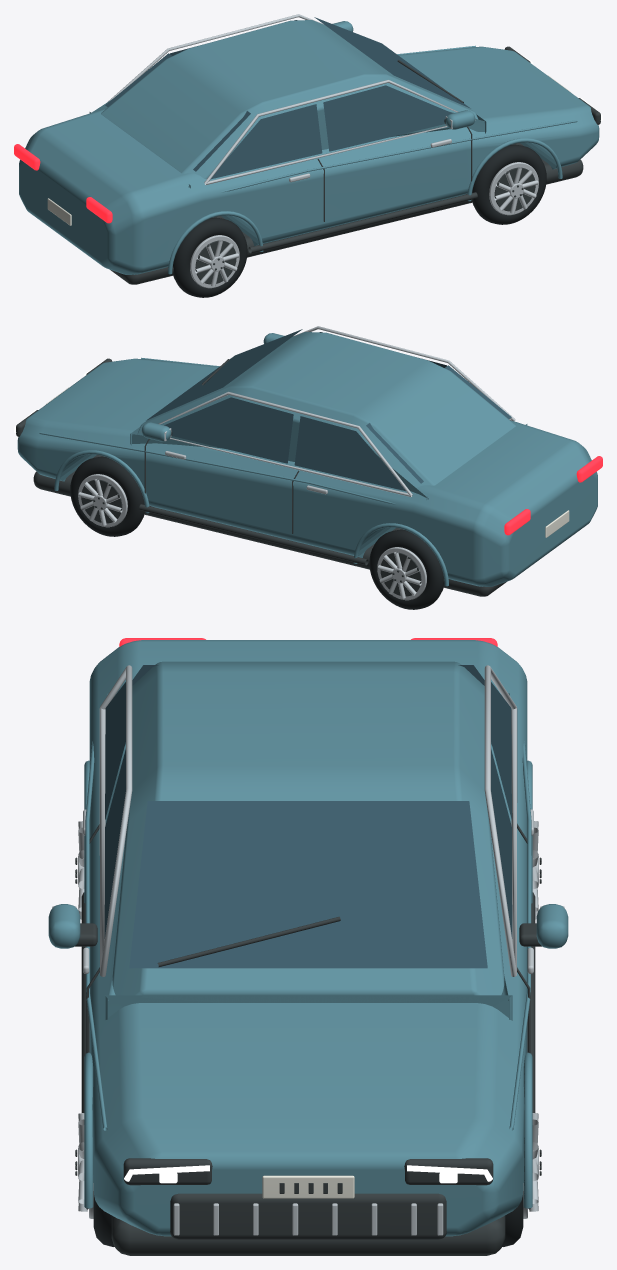
File: sedan.glb
3 views of the same model, one above another, from view 1: azimuth 30°, elevation 25°; view 2: azimuth 150°, elevation 25°; view 3: azimuth 270°, elevation 25° (orthographic). The views are drawn at different scales.
Parts seen in each view (by area): view 1: sedan_BodyPaint, sedan_SmokedGlass, sedan_MachinedAluminum, sedan_Graphite, sedan_Rubber, sedan_RearLens; view 2: sedan_BodyPaint, sedan_SmokedGlass, sedan_MachinedAluminum, sedan_Graphite, sedan_Rubber, sedan_RearLens; view 3: sedan_BodyPaint, sedan_SmokedGlass, sedan_Graphite, sedan_MachinedAluminum, sedan_Plate, sedan_LED, sedan_Rubber.
Boxes of the visible parts, x1,y1,x2,y2 form: sedan_BodyPaint: (19, 20, 599, 274); sedan_SmokedGlass: (105, 17, 470, 179); sedan_MachinedAluminum: (107, 14, 538, 288); sedan_Graphite: (110, 46, 600, 284); sedan_Rubber: (173, 144, 546, 297); sedan_RearLens: (14, 144, 112, 223); sedan_BodyPaint: (17, 332, 597, 586); sedan_SmokedGlass: (146, 329, 511, 491); sedan_MachinedAluminum: (78, 326, 515, 600); sedan_Graphite: (16, 358, 506, 596); sedan_Rubber: (70, 456, 443, 609); sedan_RearLens: (504, 456, 602, 535); sedan_BodyPaint: (48, 640, 568, 1236); sedan_SmokedGlass: (104, 665, 512, 968); sedan_Graphite: (75, 823, 541, 1255); sedan_MachinedAluminum: (52, 665, 564, 1235); sedan_Plate: (262, 1175, 354, 1198); sedan_LED: (124, 1165, 492, 1183); sedan_Rubber: (93, 1191, 523, 1246).
Size of the model in its own units: 4.39 by 1.44 by 1.97.
